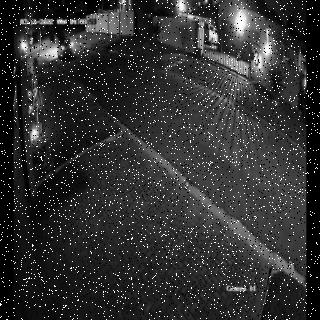car: (57, 38, 74, 62), (204, 22, 218, 46)
